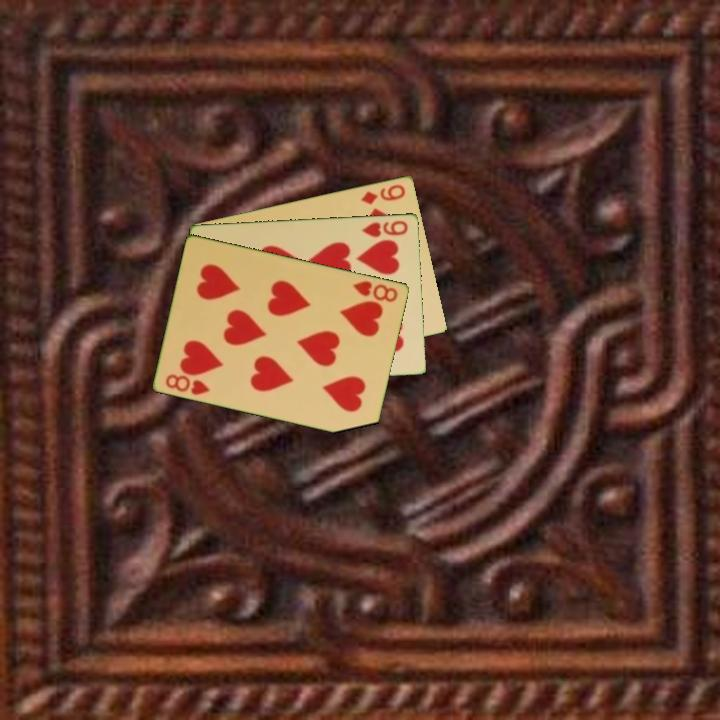8h: (349, 277, 401, 305), (162, 370, 214, 398)
9d: (357, 180, 408, 207)
9h: (359, 216, 411, 239)
